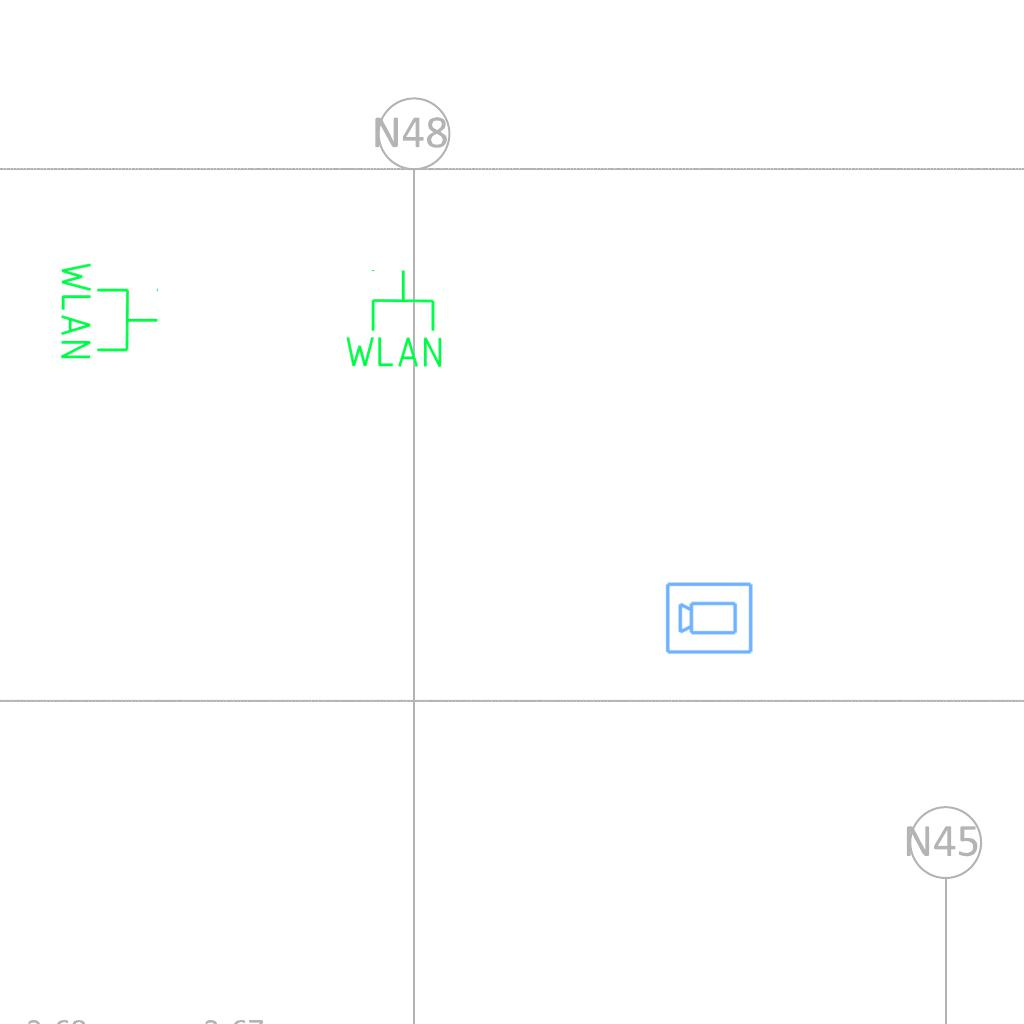KFO_Kamera_mit_Festobjektiv: (664, 579, 755, 656)
WLAN: (341, 267, 446, 371), (57, 258, 161, 363)
